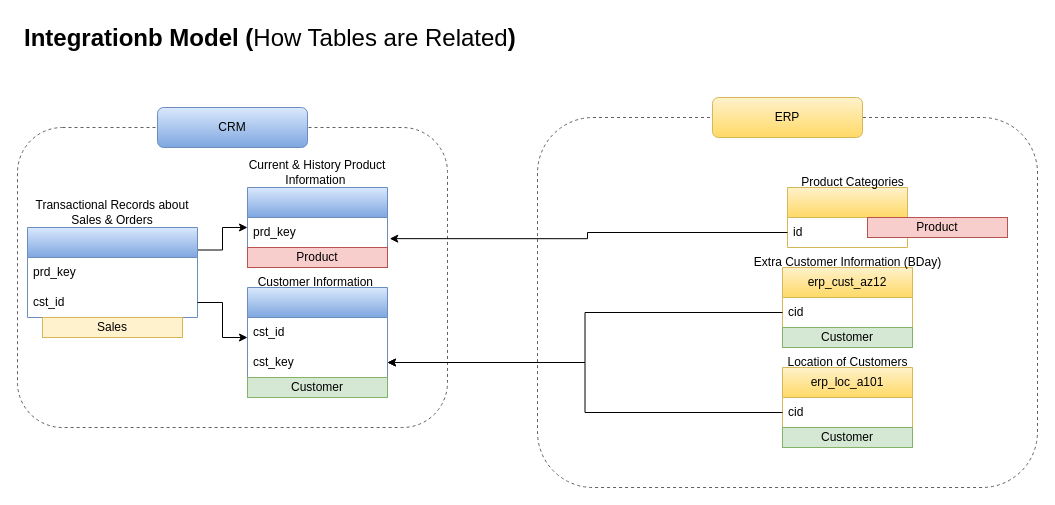
This 1055x505 diagram has some shape labels left out. The shapes that lost their labels are listed below. From the top down, each one's box as (x1, y1, x2, y2) in pixels, then its label:
(246, 186, 388, 248): crm_prd_info
(786, 186, 908, 248): erp_px_cat_g1v2
(26, 226, 198, 318): cust_sales_details
(246, 286, 388, 378): crm_cust_info
